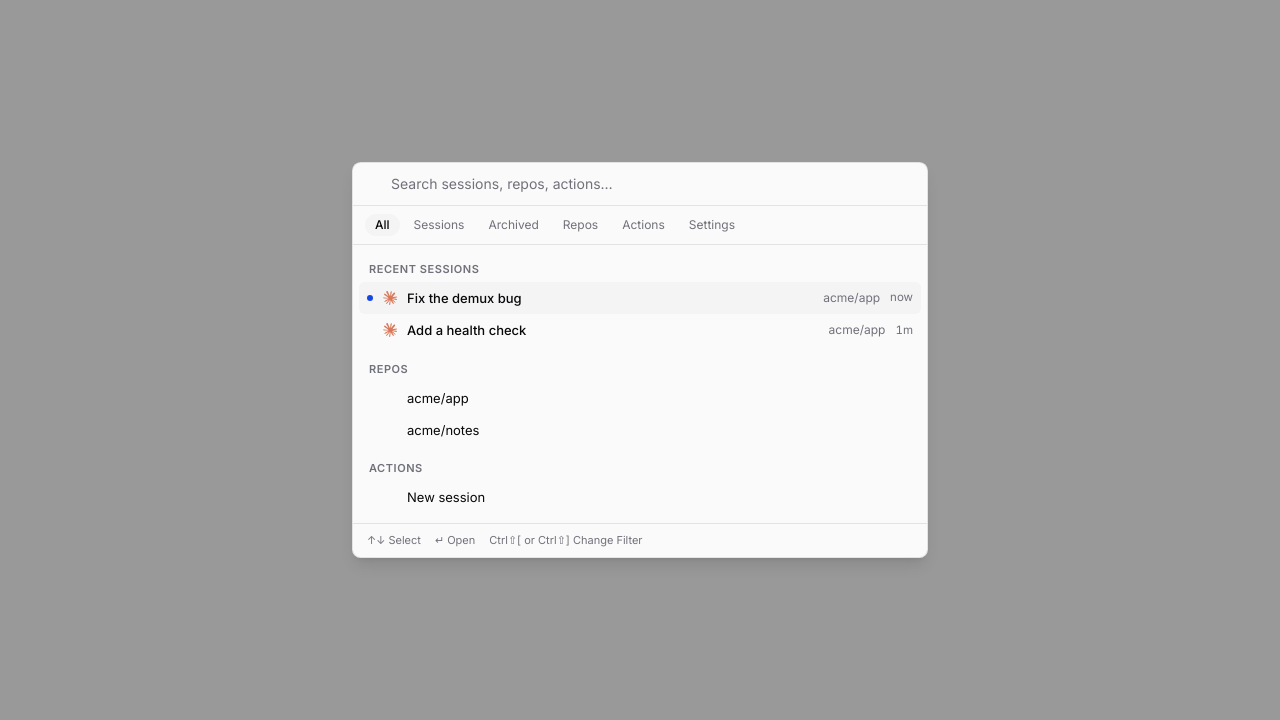
Test: SearchPalette › filters by typed query
Type "health" into the search field labelled "Search sessions, repos, actions…" at (652, 184), box [391,173,913,195]
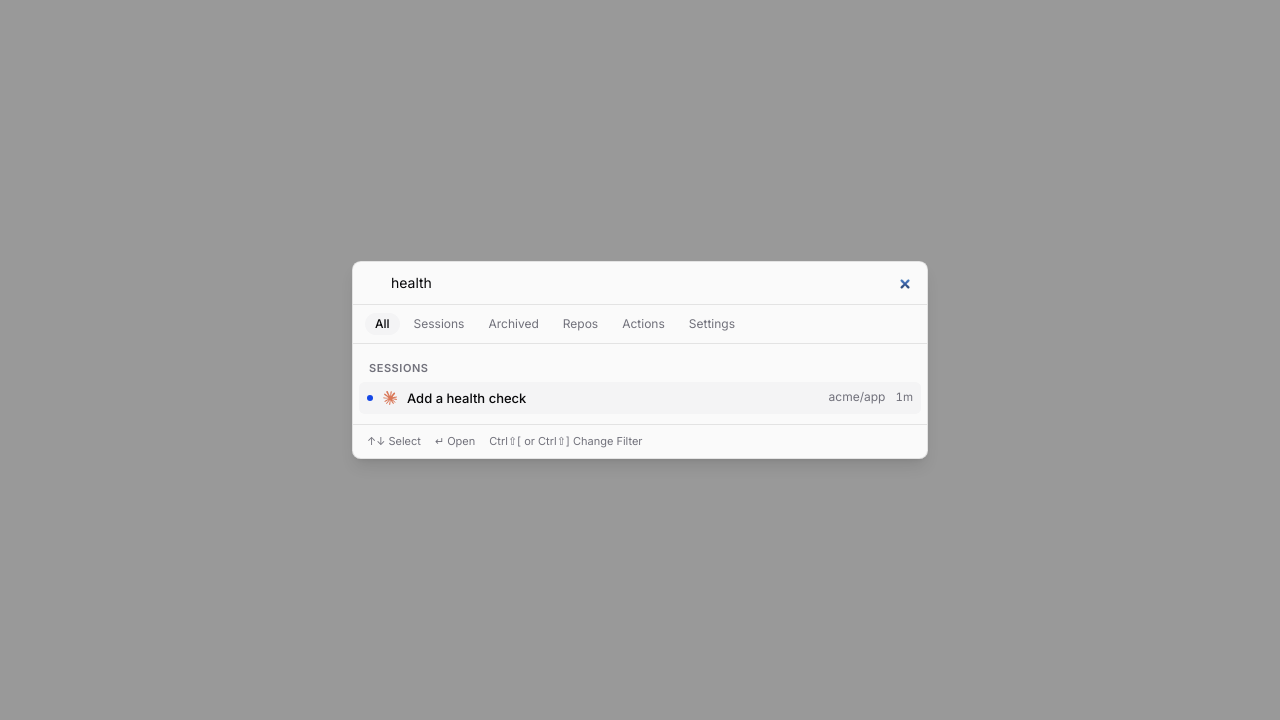
expect the option "Add a health check acme/app 1m" is shown: met, box [359,382,921,414]
expect the option "Fix the demux bug" is gone: met
